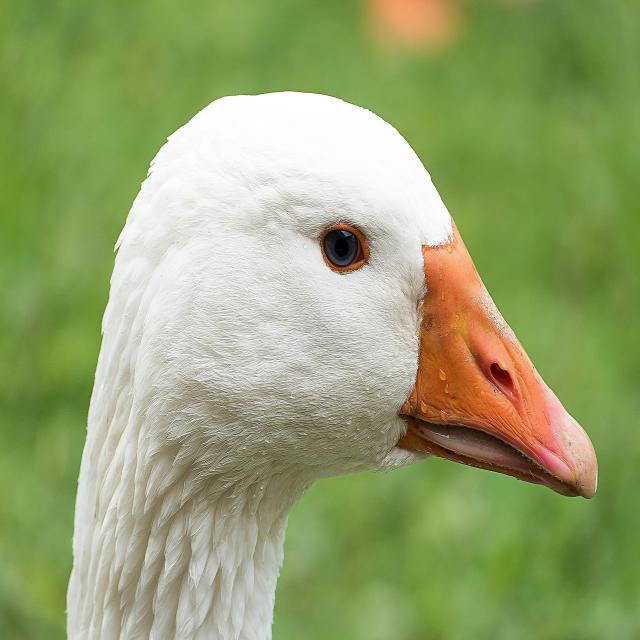Goose: (57, 85, 607, 640)
